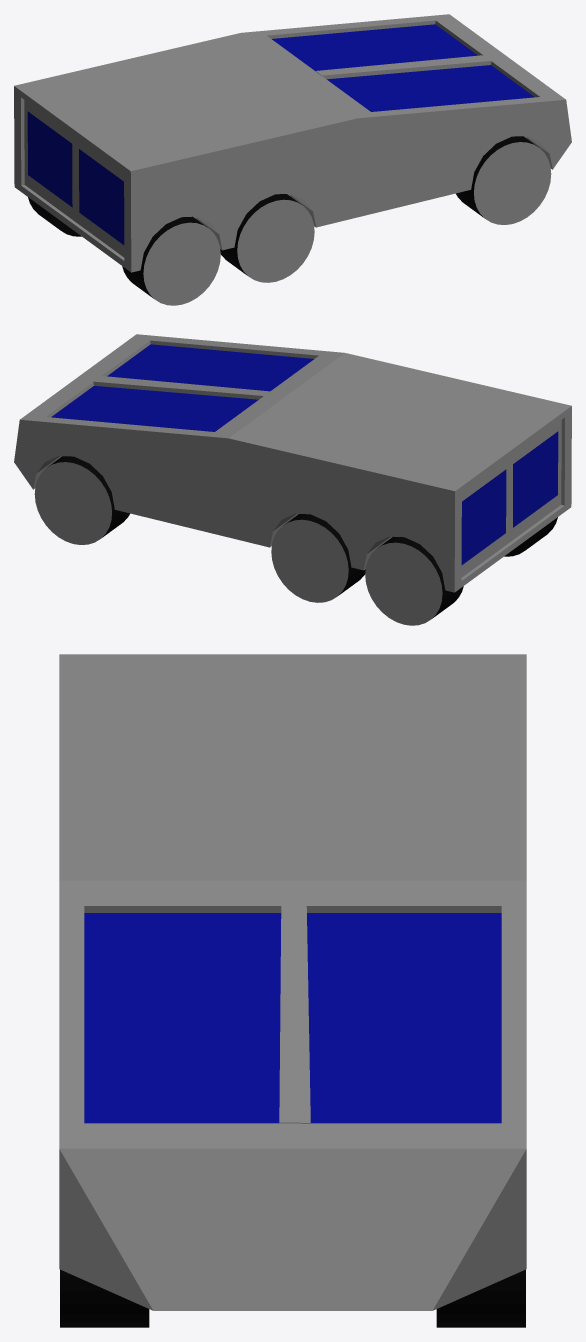
File: Military Armoured Vehicle.fbx
3 renders of one model, top to bottom at view 1: azimuth 30°, elevation 25°; view 2: azimuth 150°, elevation 25°; view 3: azimuth 270°, elevation 25°, orthographic. The views are drawn at different scales.
Parts seen in each view (by area): view 1: Cylinder; view 2: Cylinder; view 3: Cylinder.
Part boxes in pixels (x1,y1,x2,y2): Cylinder: (14, 14, 571, 305); Cylinder: (14, 334, 571, 625); Cylinder: (59, 654, 526, 1327).
Size of the model in its own units: 1139 by 342 by 496.
